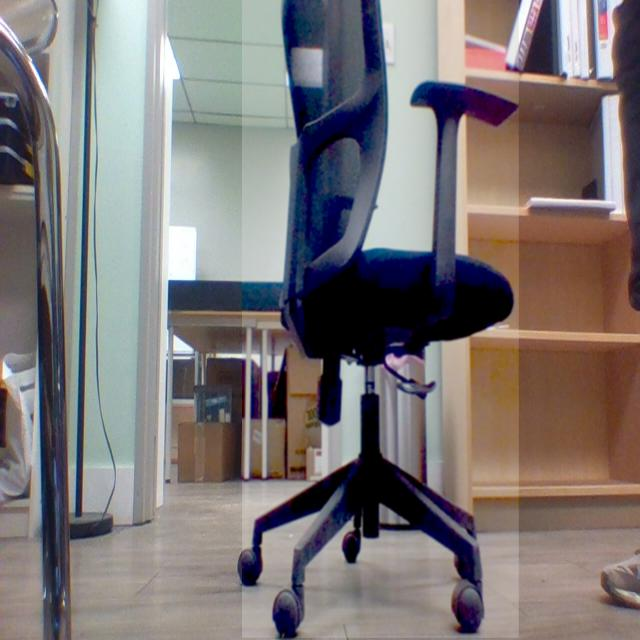black-chair: (242, 0, 520, 639)
